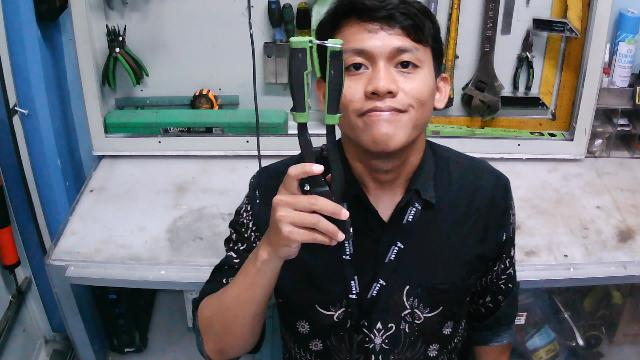tang_rivet: (288, 36, 347, 241)
